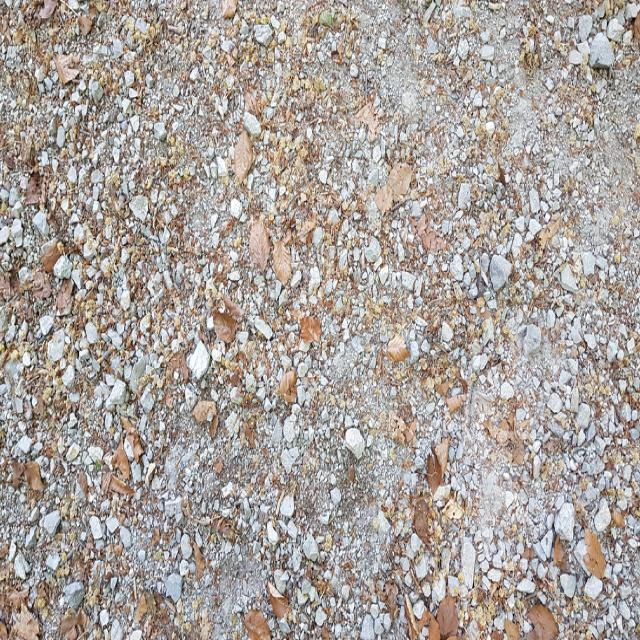rocks: (0, 5, 639, 639), (570, 32, 613, 65), (450, 37, 475, 69), (580, 16, 590, 28)
white-sand: (488, 41, 631, 243), (381, 20, 460, 117)
